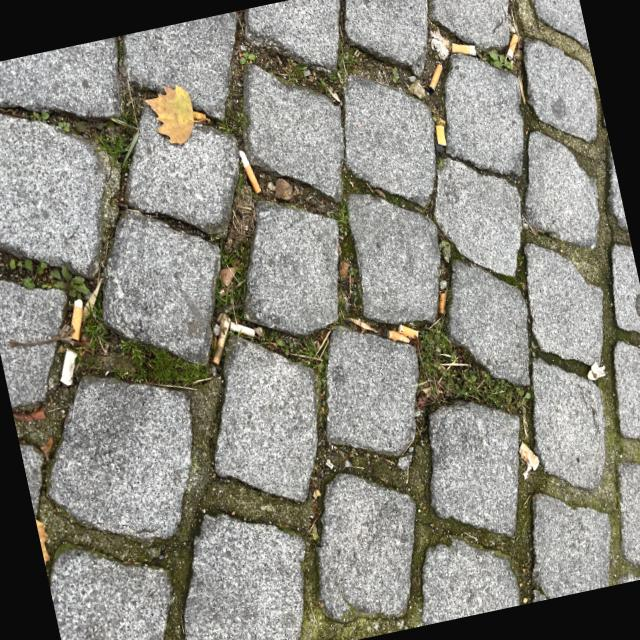weedling: (327, 112, 415, 222), (344, 439, 388, 527)
